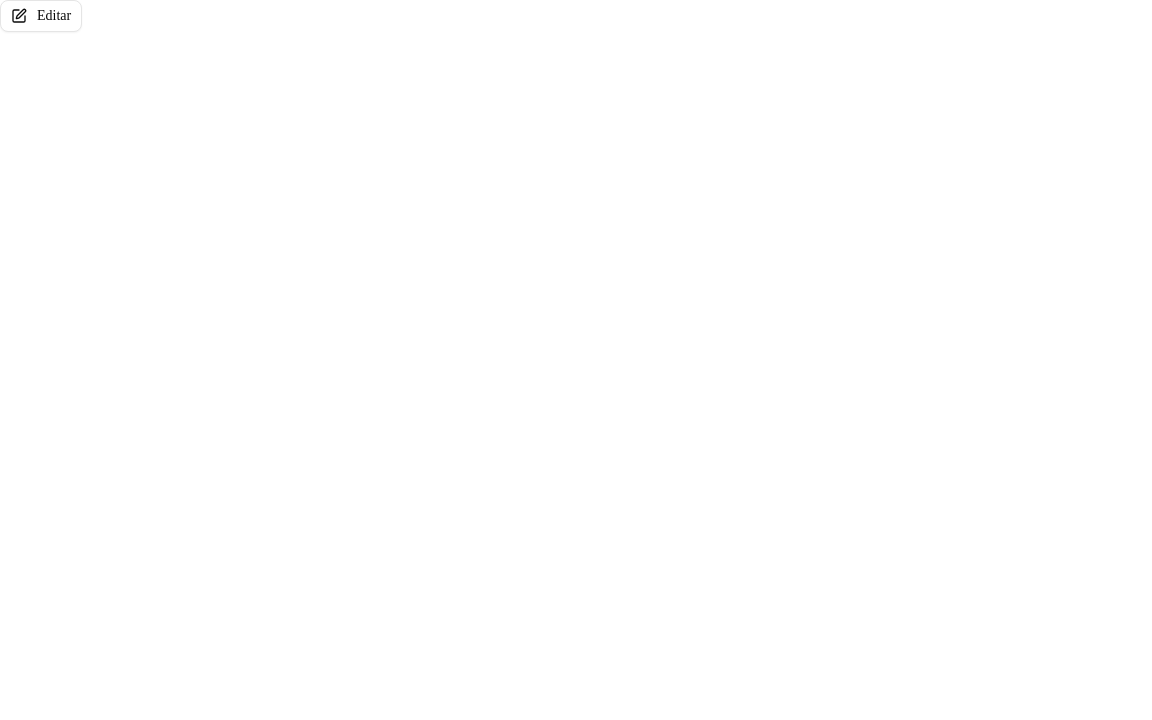
Test case: EditCollectionModal › replacing the image › uploads the new image first and saves the returned URL
Later steps or results of the test are not shown.
Click the button "Editar" at (41, 16), box [0,0,82,32]
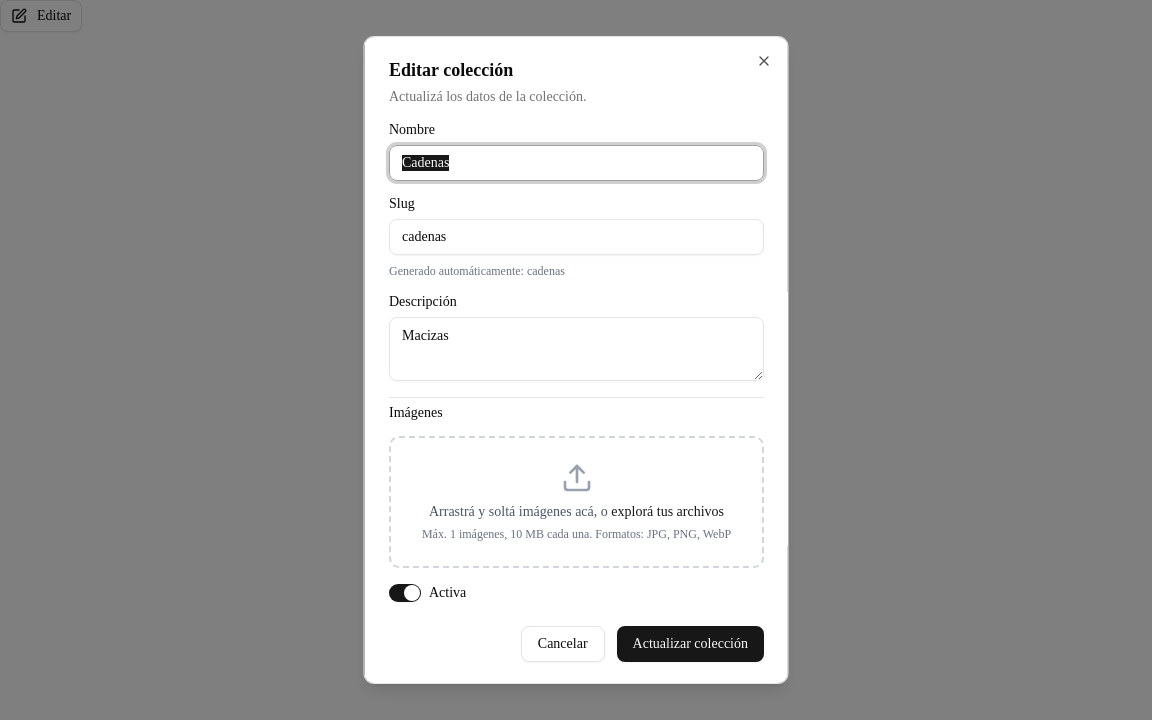
Expected: the dialog is shown, [364,36,788,684]
